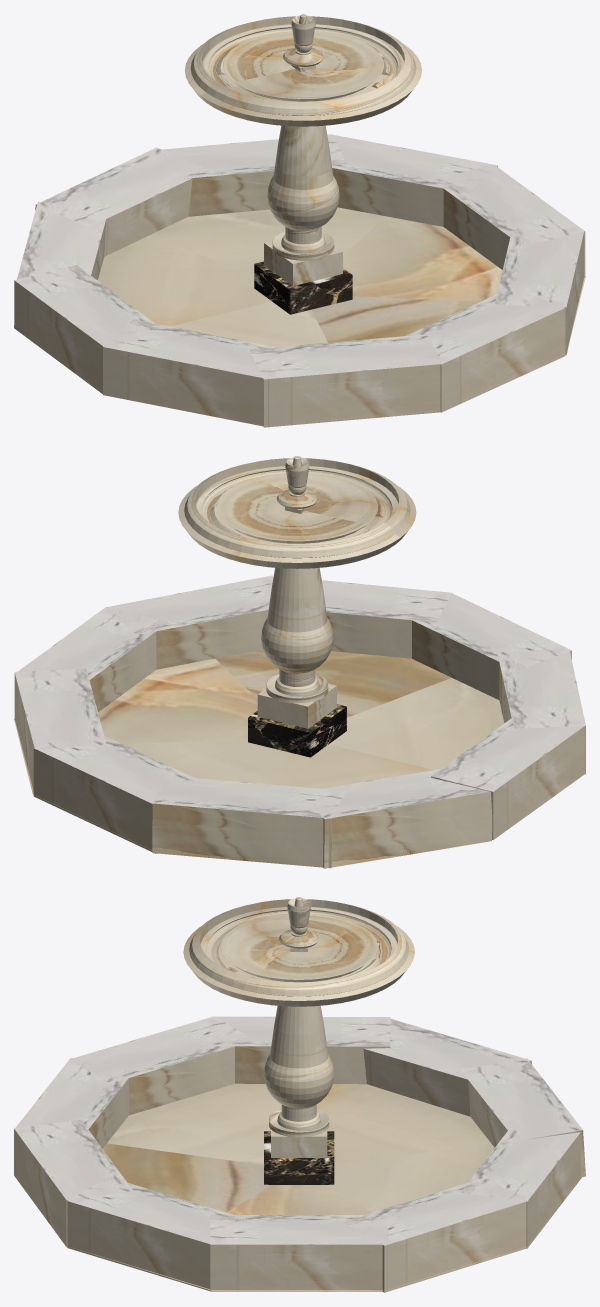
The model's file is fontaine2.glb.
3 renders of one model, top to bottom at view 1: azimuth 30°, elevation 25°; view 2: azimuth 150°, elevation 25°; view 3: azimuth 270°, elevation 25°, orthographic. The views are drawn at different scales.
Visible parts, largest first — view 1: Torus.002; view 2: Torus.002; view 3: Torus.002.
Part boxes in pixels (x1,y1,x2,y2): Torus.002: (14,14,585,427); Torus.002: (14,456,585,868); Torus.002: (14,897,585,1292).
Size of the model in its own units: 15.43 by 9 by 16.24.
3 materials, 3 textured.
